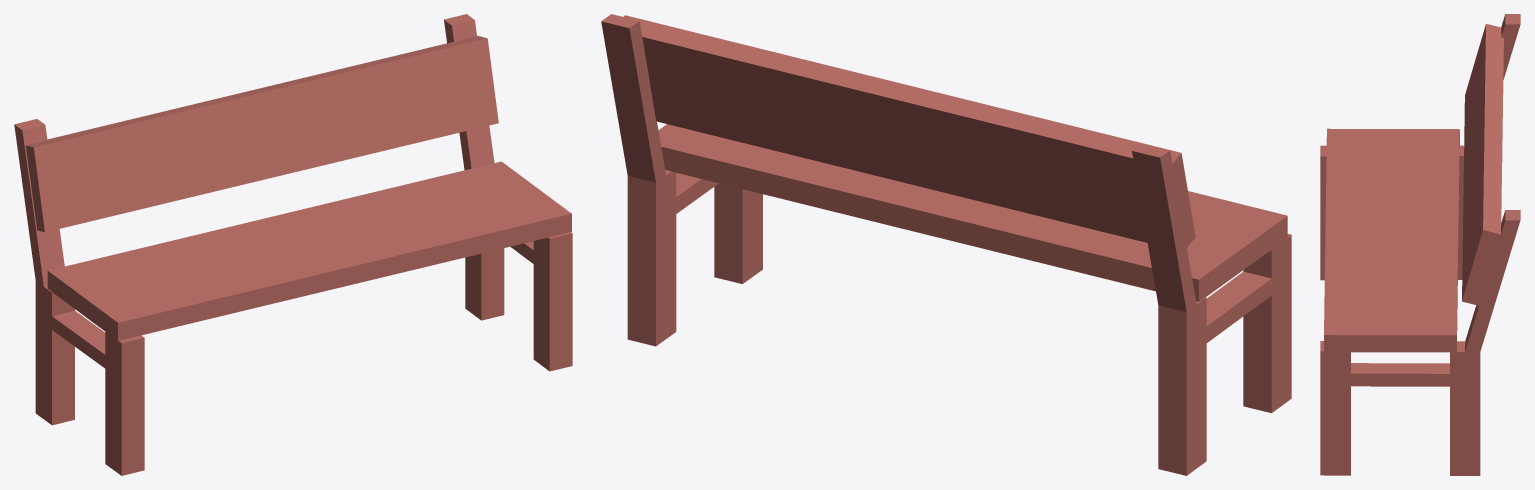
The model's file is Lavochka.fbx.
The picture shows the model from 3 angles, left to right: view 1: azimuth 30°, elevation 25°; view 2: azimuth 150°, elevation 25°; view 3: azimuth 270°, elevation 25°; orthographic projection. The views are drawn at different scales.
Visible parts, largest first — view 1: Lavochka; view 2: Lavochka; view 3: Lavochka.
Boxes of the visible parts, x1,y1,x2,y2 form: Lavochka: (14,14,572,475); Lavochka: (601,14,1291,475); Lavochka: (1320,14,1520,475).
Bounding box in the file's own units: 201 × 116 × 82.05.
